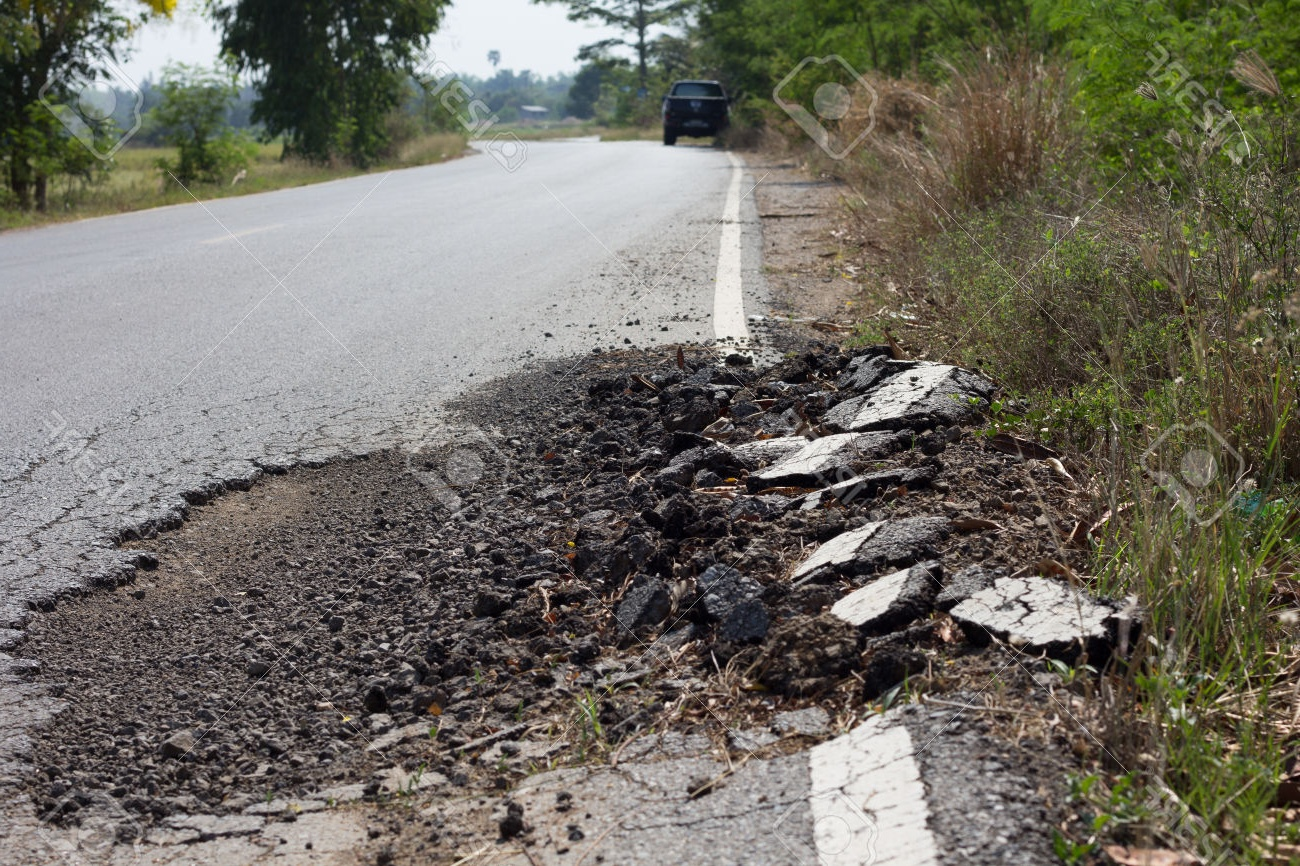pothole: (0, 436, 570, 844)
